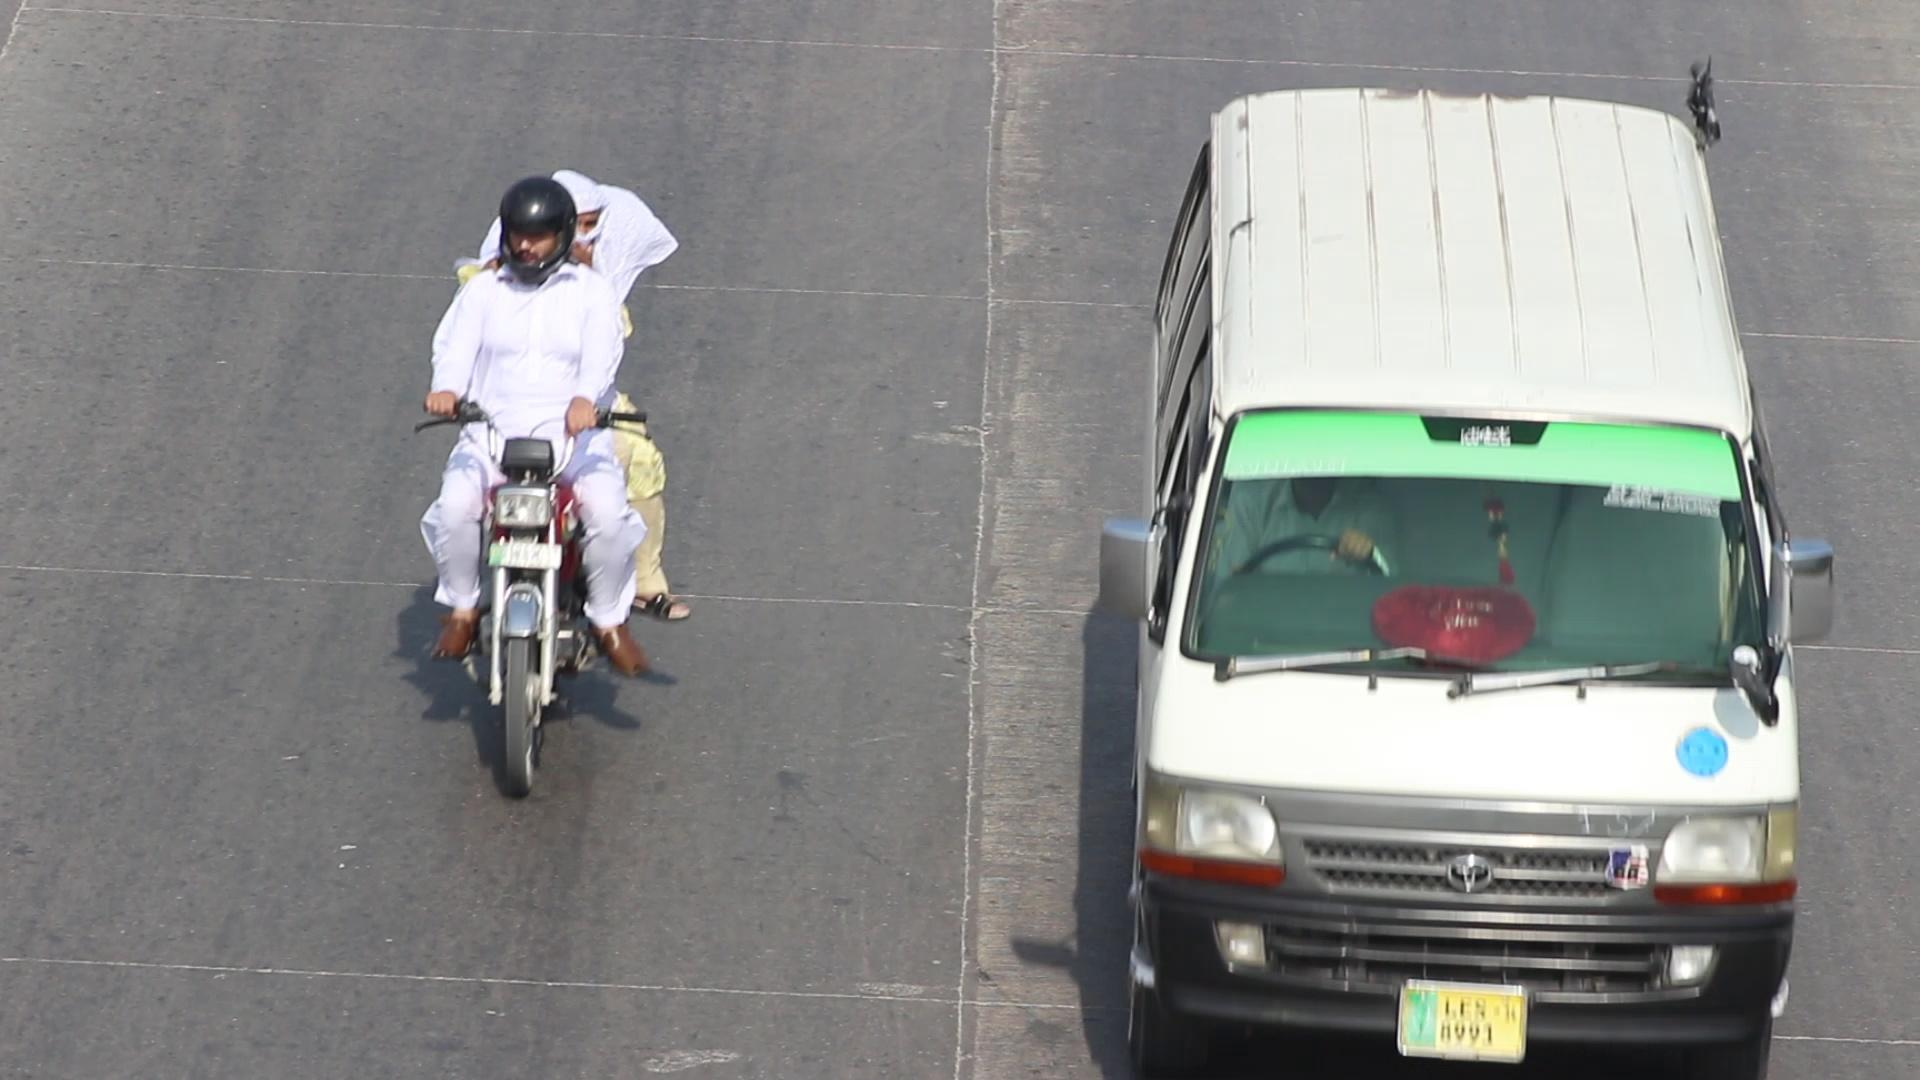windshield: (1164, 386, 1760, 690)
